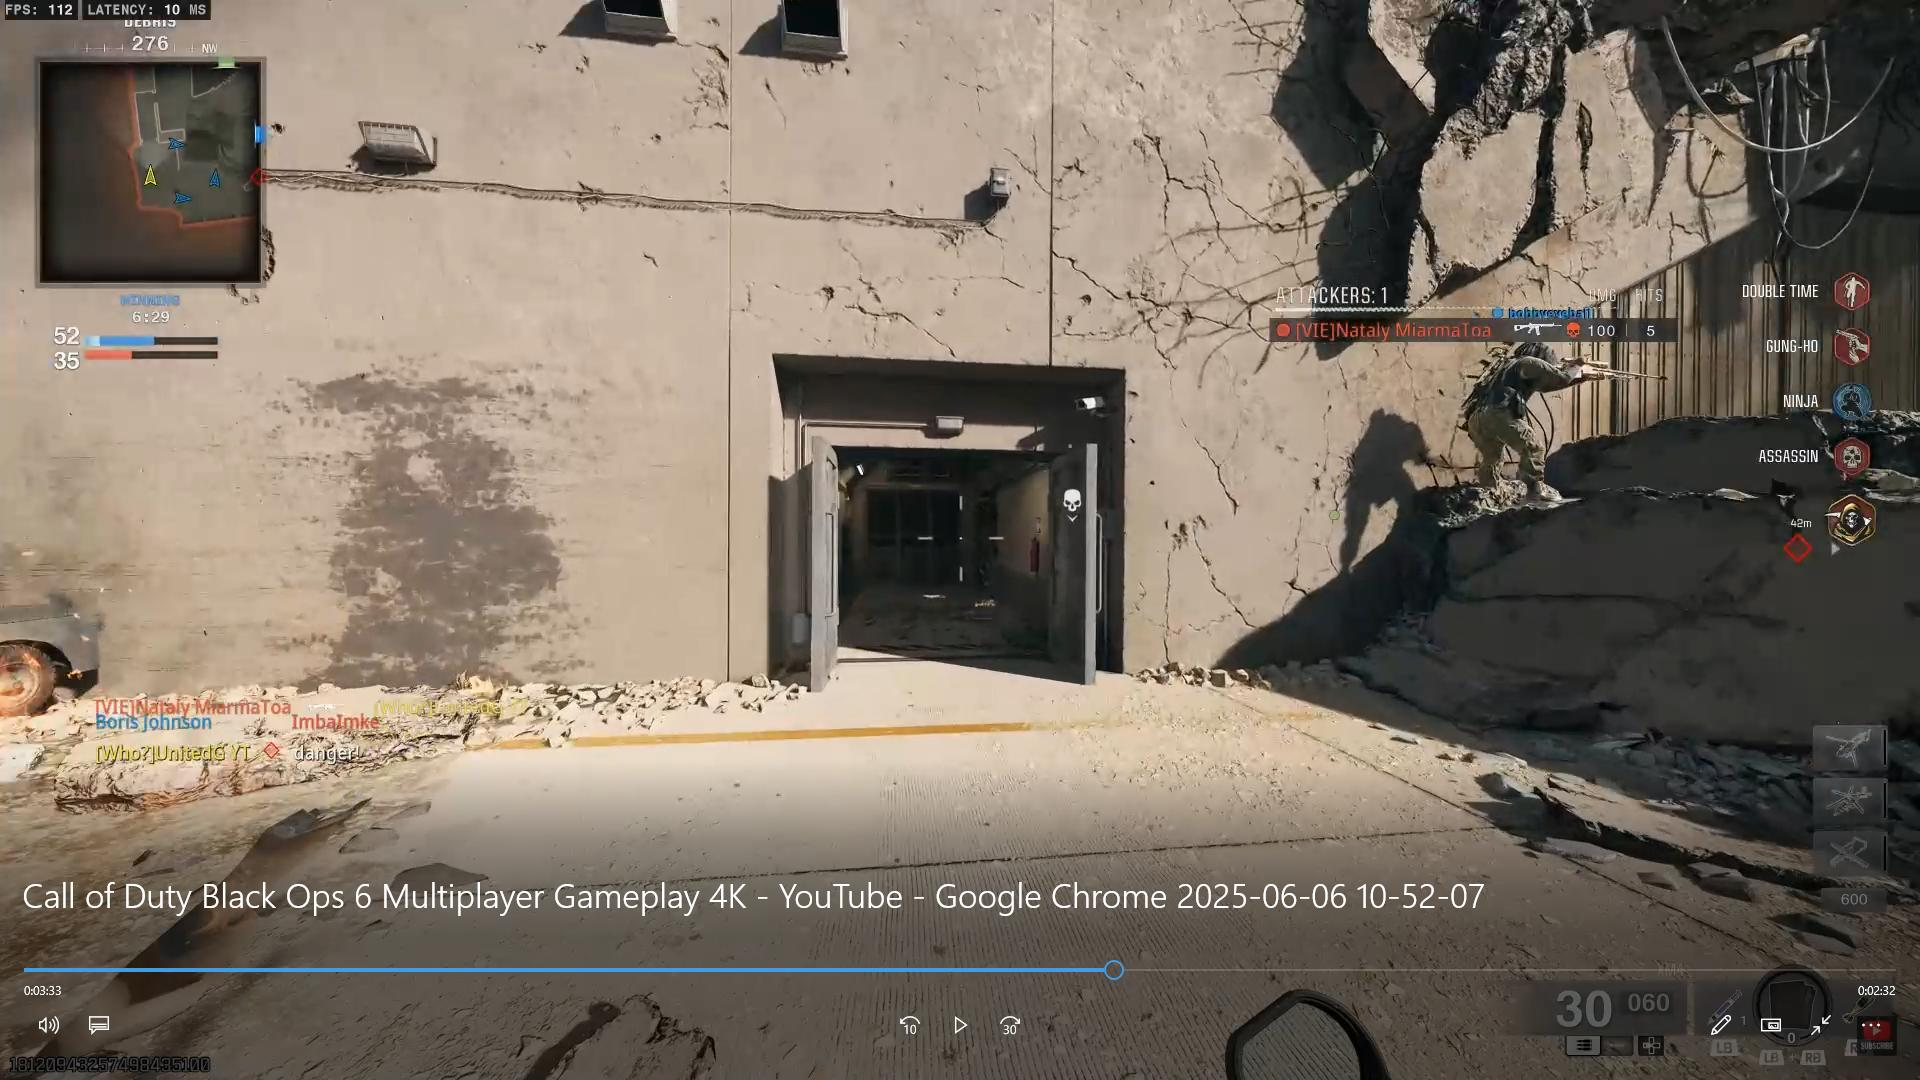Enemy: (1481, 342, 1590, 498)
